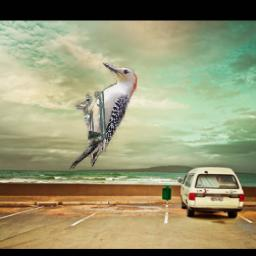Woodpecker: (68, 62, 139, 171)
